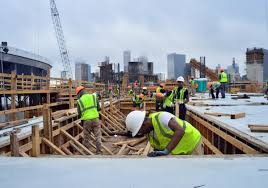hard hat: (124, 109, 146, 138), (75, 85, 84, 94), (177, 76, 185, 82), (220, 67, 225, 71)
high-vis: (150, 111, 202, 154), (80, 93, 98, 120), (173, 87, 187, 103), (220, 72, 227, 82)
